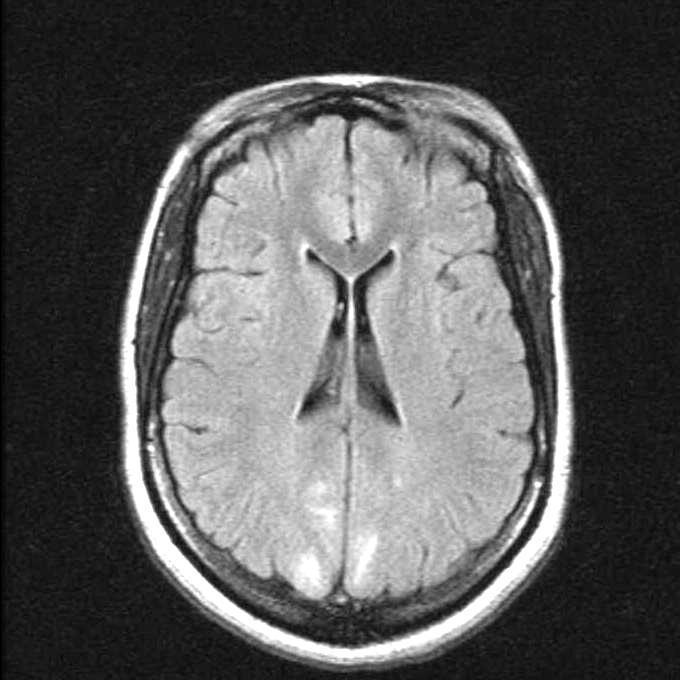Normal_Brain: (19, 49, 680, 680)
